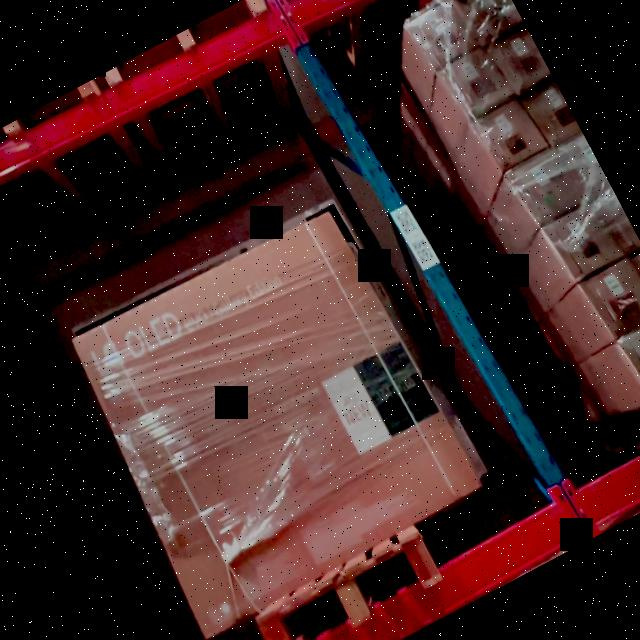box: (75, 205, 474, 618)
